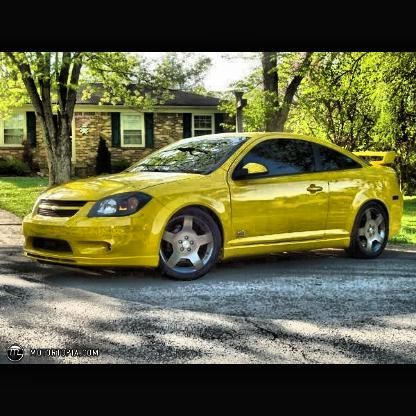Chevrolet Cobalt SS 2010: (18, 131, 408, 284)
